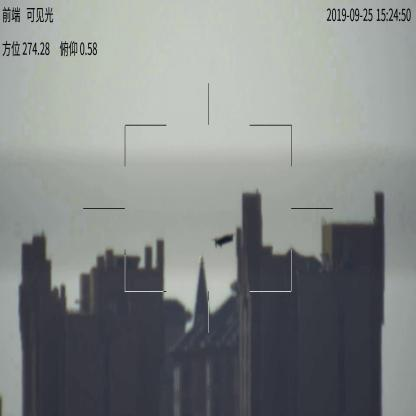uav: (214, 232, 235, 248)
